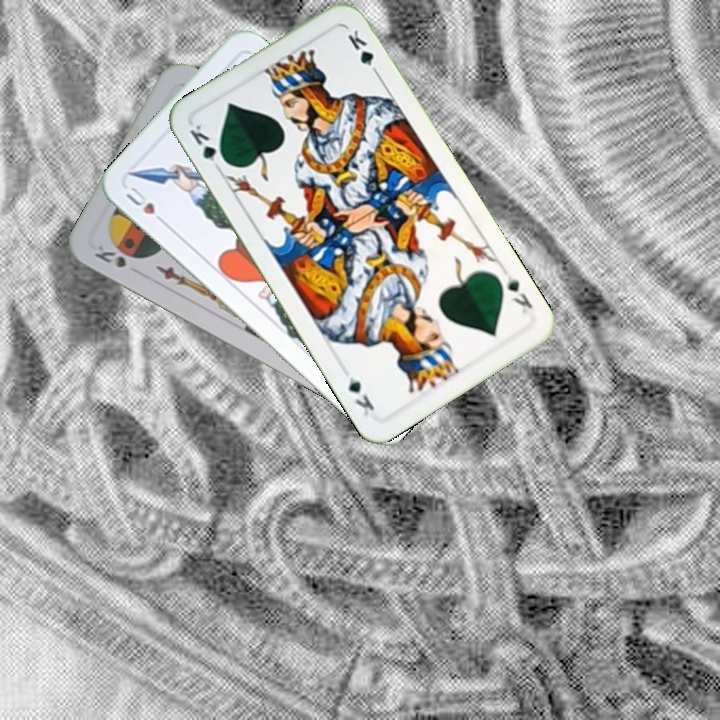GK: (185, 120, 230, 174), (499, 266, 535, 317)
HU: (121, 182, 170, 229)
SK: (90, 241, 129, 271)
